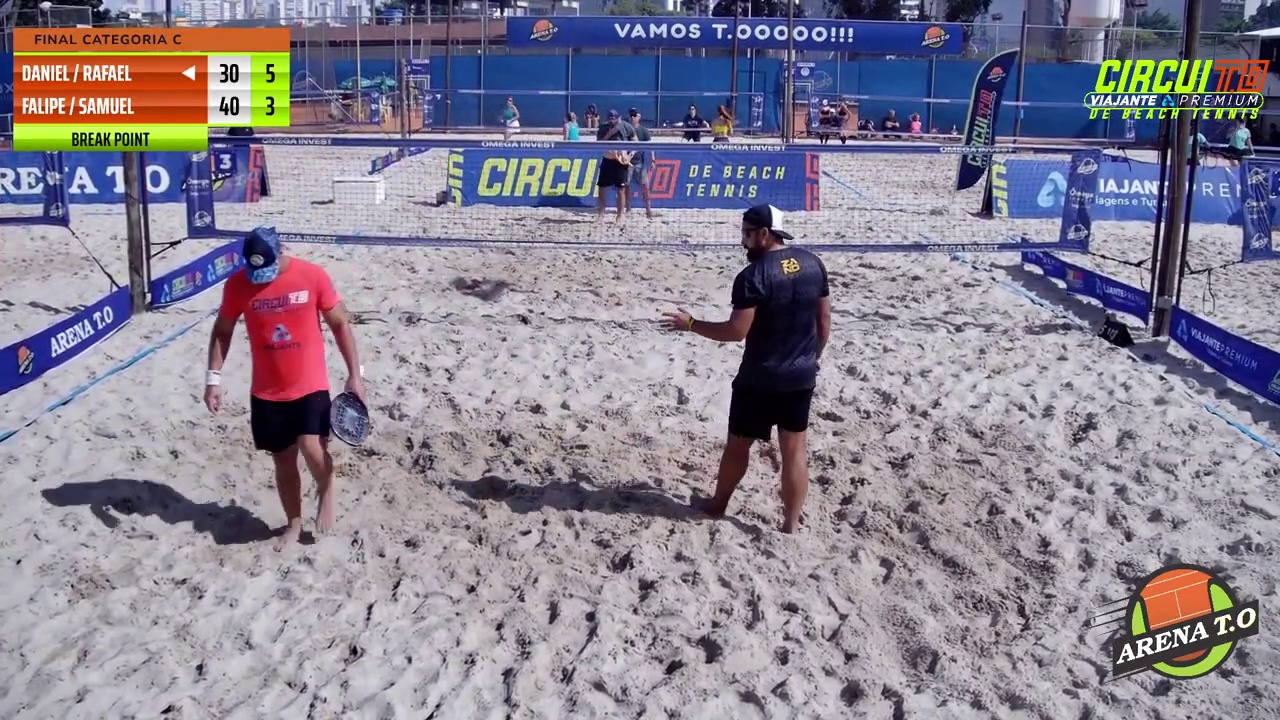court_line: (640, 0, 800, 421), (543, 0, 664, 497)
